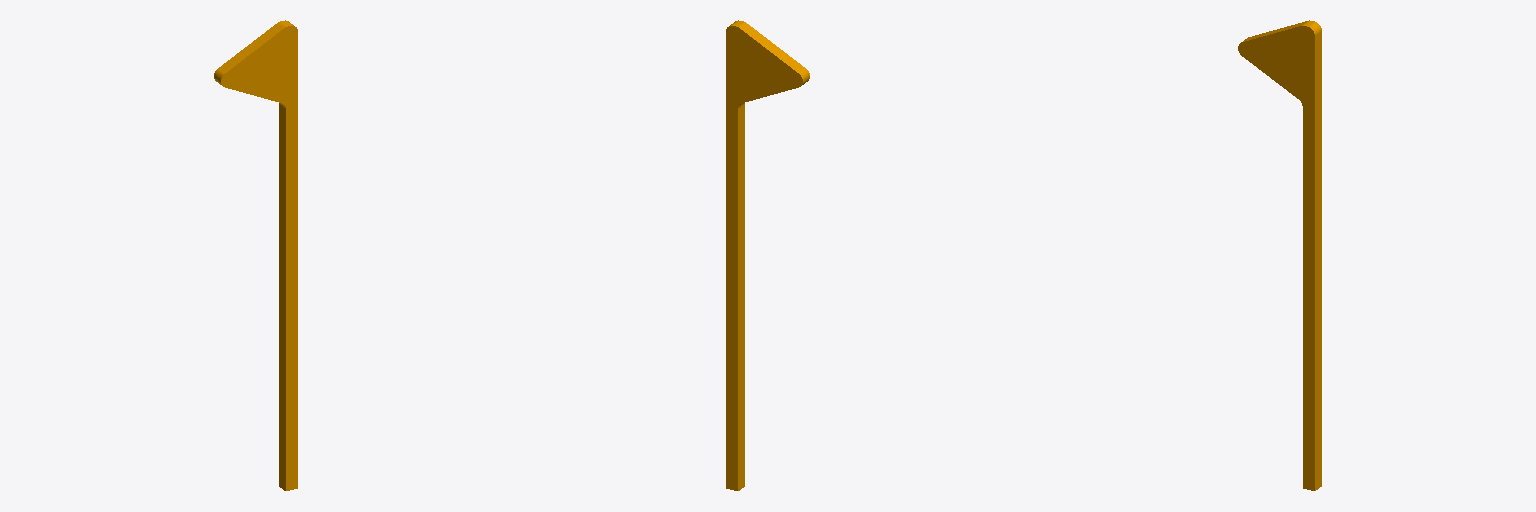
URDF robot description (flagpole):
<?xml version="1.0"?>
<robot name="flagpole">
  <link name="flagpole">
    <visual>
      <origin xyz="0 0 0"/>
      <geometry>
        <mesh filename="meshes/flagpole.stl" scale="1 1 1"/>
      </geometry>
    </visual>
    <collision>
      <origin xyz="0 0 0"/>
      <geometry>
        <mesh filename="meshes/flagpole.stl" scale="1 1 1"/>
      </geometry>
    </collision>
    <inertial>
      <density value="567.0"/>
    </inertial>
  </link>
</robot>

--- Facts derived from the render (not from the file) ---
The picture shows the robot from 3 angles, left to right: view 1: azimuth 30°, elevation 25°; view 2: azimuth 150°, elevation 25°; view 3: azimuth 330°, elevation 25°; orthographic projection.
Model flagpole with 1 links and 0 joints (none), rooted at flagpole, posed every joint at zero.
Links seen in each view (by area): view 1: flagpole; view 2: flagpole; view 3: flagpole.
Link boxes in pixels (x1=…): flagpole: x1=214, y1=20, x2=297, y2=490; flagpole: x1=726, y1=20, x2=809, y2=490; flagpole: x1=1238, y1=20, x2=1321, y2=490.
Size in the robot's own frame: 0.3129 by 0.05 by 1.8 metres.
Meshes: 1 distinct files referenced, 1 mesh visuals loaded (1 binary STL).
